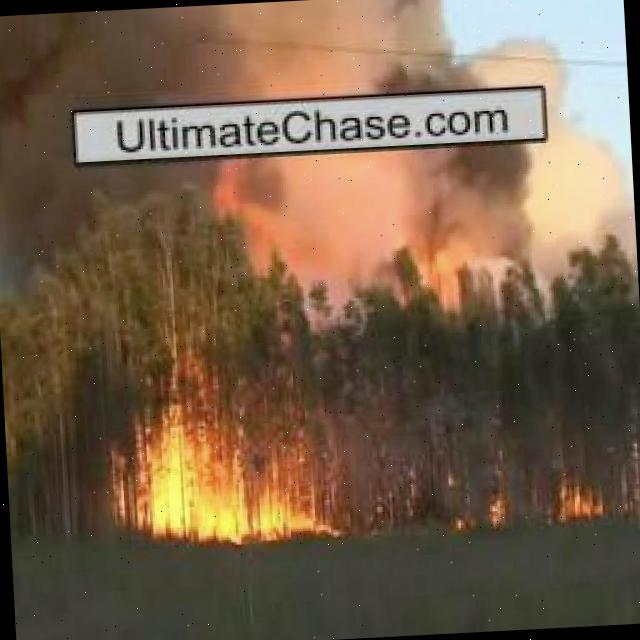fire: (128, 440, 324, 541), (420, 252, 480, 306), (214, 173, 257, 244), (549, 483, 606, 522), (449, 500, 510, 530)
